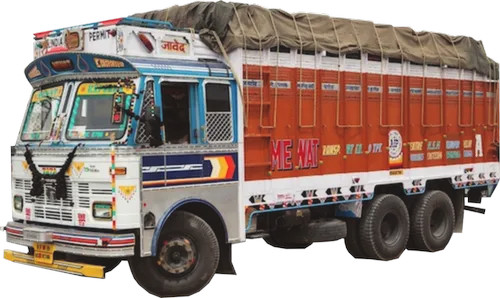truck: (4, 2, 500, 298)
